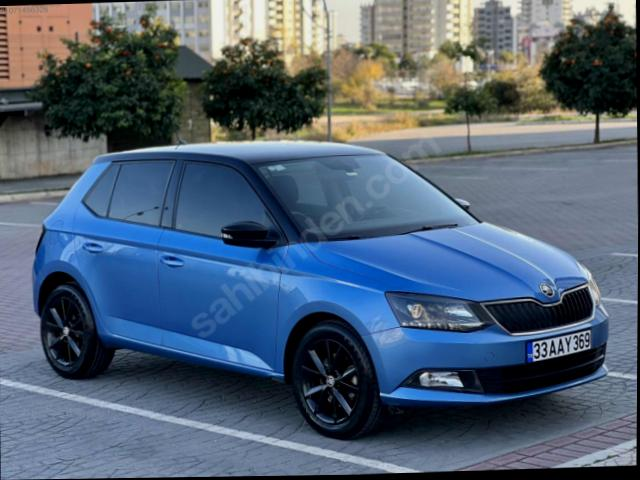plaka: (527, 329, 591, 362)
